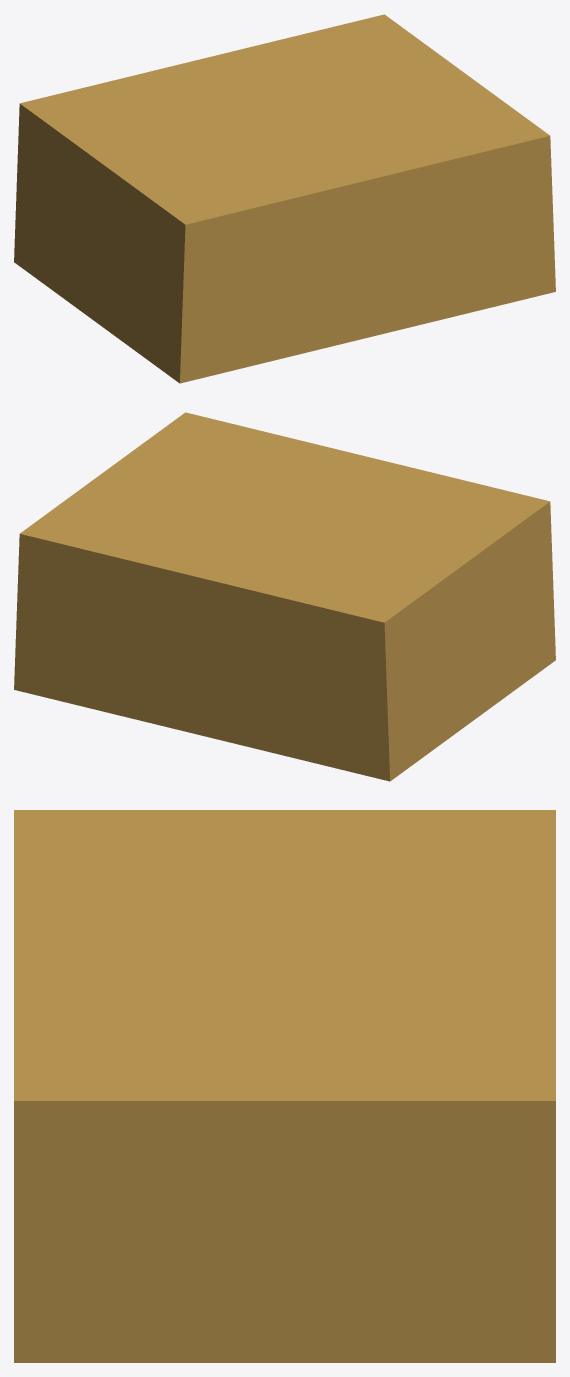
File: pile_folders_whole.glb
3 renders of one model, top to bottom at view 1: azimuth 30°, elevation 25°; view 2: azimuth 150°, elevation 25°; view 3: azimuth 270°, elevation 25°, orthographic. The views are drawn at different scales.
Visible parts, largest first — view 1: pile_folders_whole_0; view 2: pile_folders_whole_0; view 3: pile_folders_whole_0.
Part boxes in pixels (box(x1,y1,x2,y2)): pile_folders_whole_0: box(14, 14, 555, 383); pile_folders_whole_0: box(14, 412, 555, 781); pile_folders_whole_0: box(14, 810, 555, 1362).
Size of the model in its own units: 0.55 by 0.22 by 0.42.
